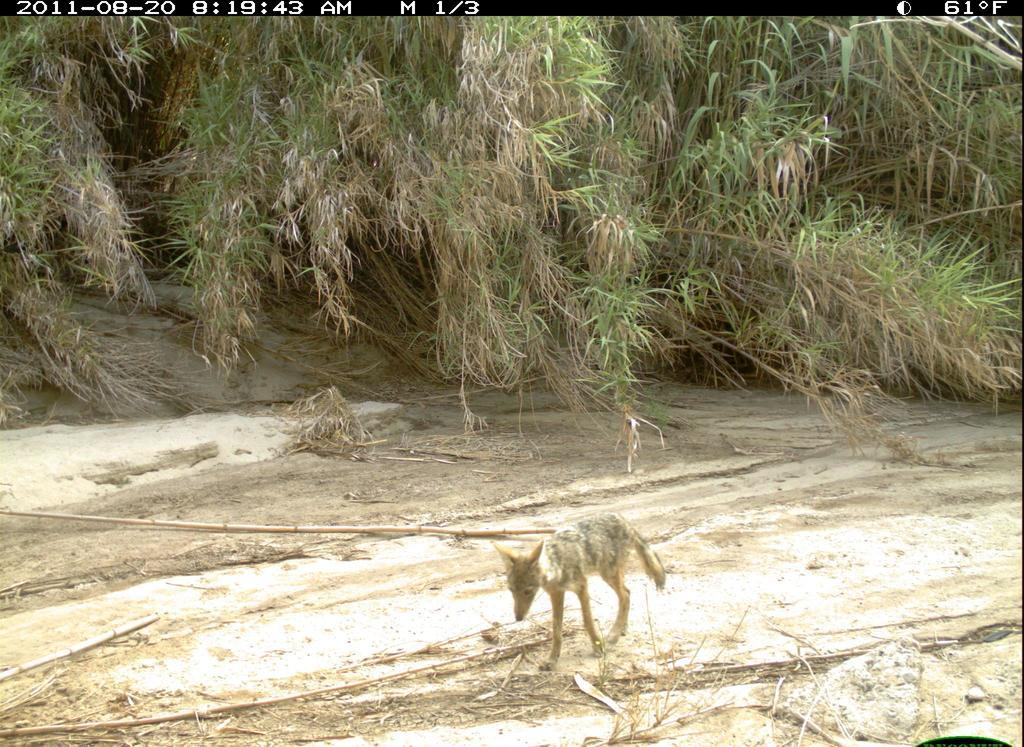coyote: (489, 507, 673, 673)
